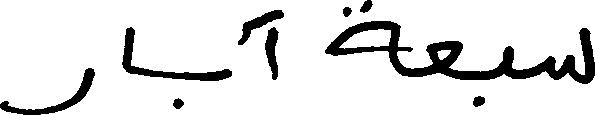X: (327, 0, 396, 75), (0, 63, 94, 114), (549, 23, 594, 88), (427, 36, 462, 84), (266, 5, 279, 84), (121, 22, 134, 78), (502, 41, 512, 83), (218, 64, 230, 85)
